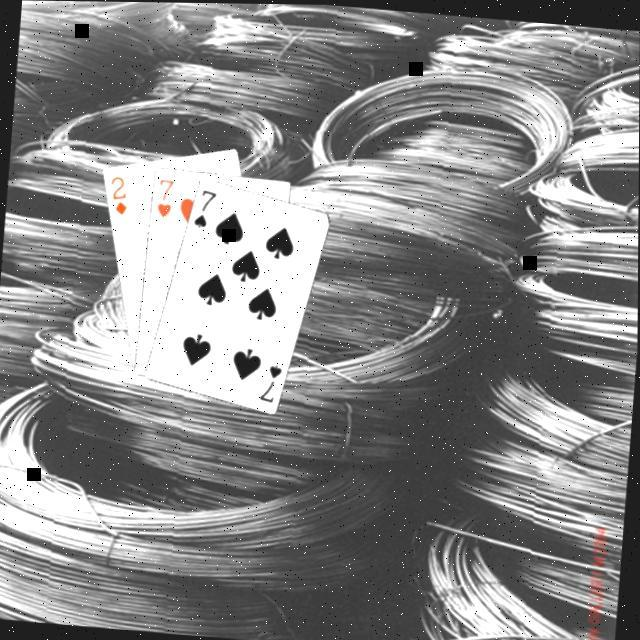2D: (103, 170, 130, 216)
7H: (153, 174, 176, 219)
7S: (189, 183, 218, 229), (255, 357, 284, 403)
